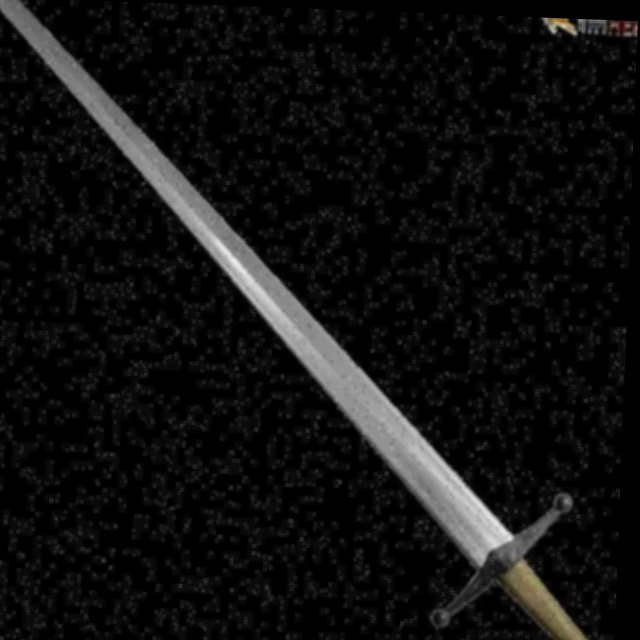Sharp-Object: (0, 18, 611, 640)
